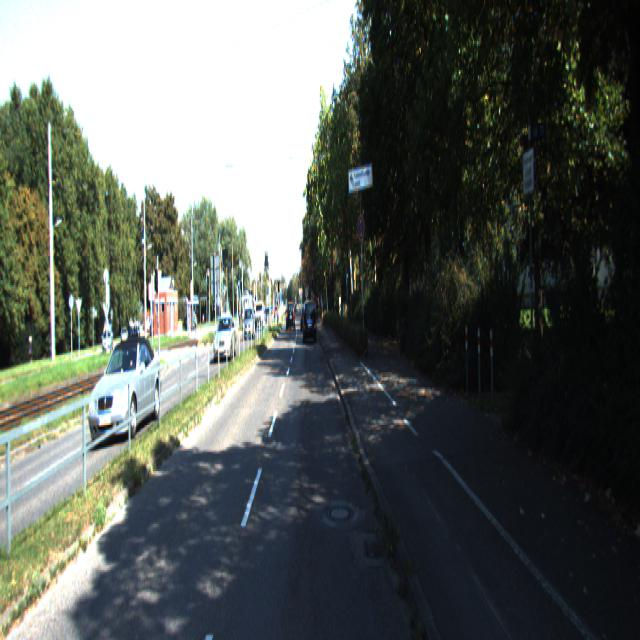Car: (89, 332, 163, 450), (213, 314, 237, 364), (303, 299, 317, 344)
